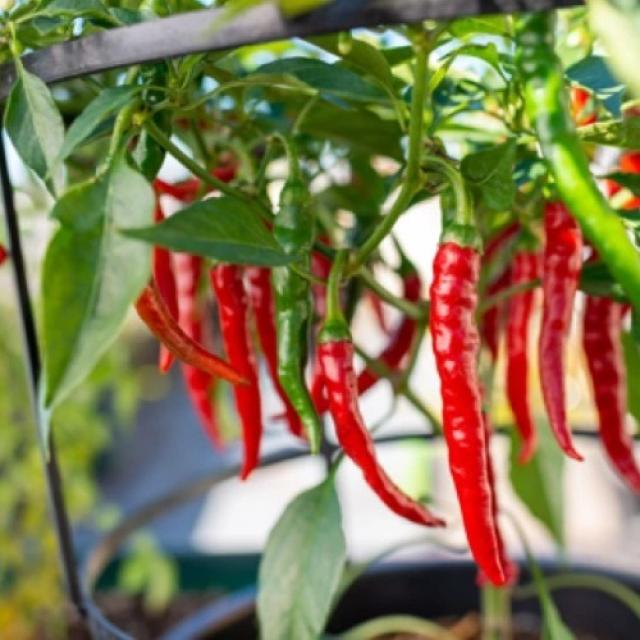Mosaic_virus: (0, 2, 640, 579)
